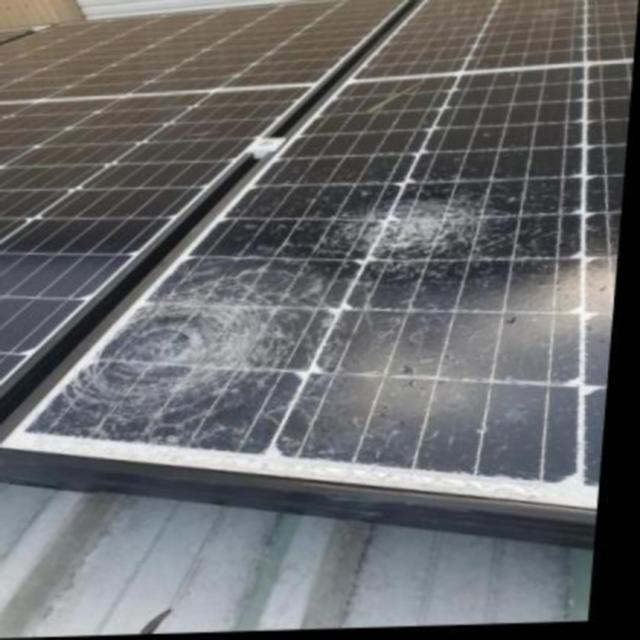cracked: (27, 1, 625, 542)
